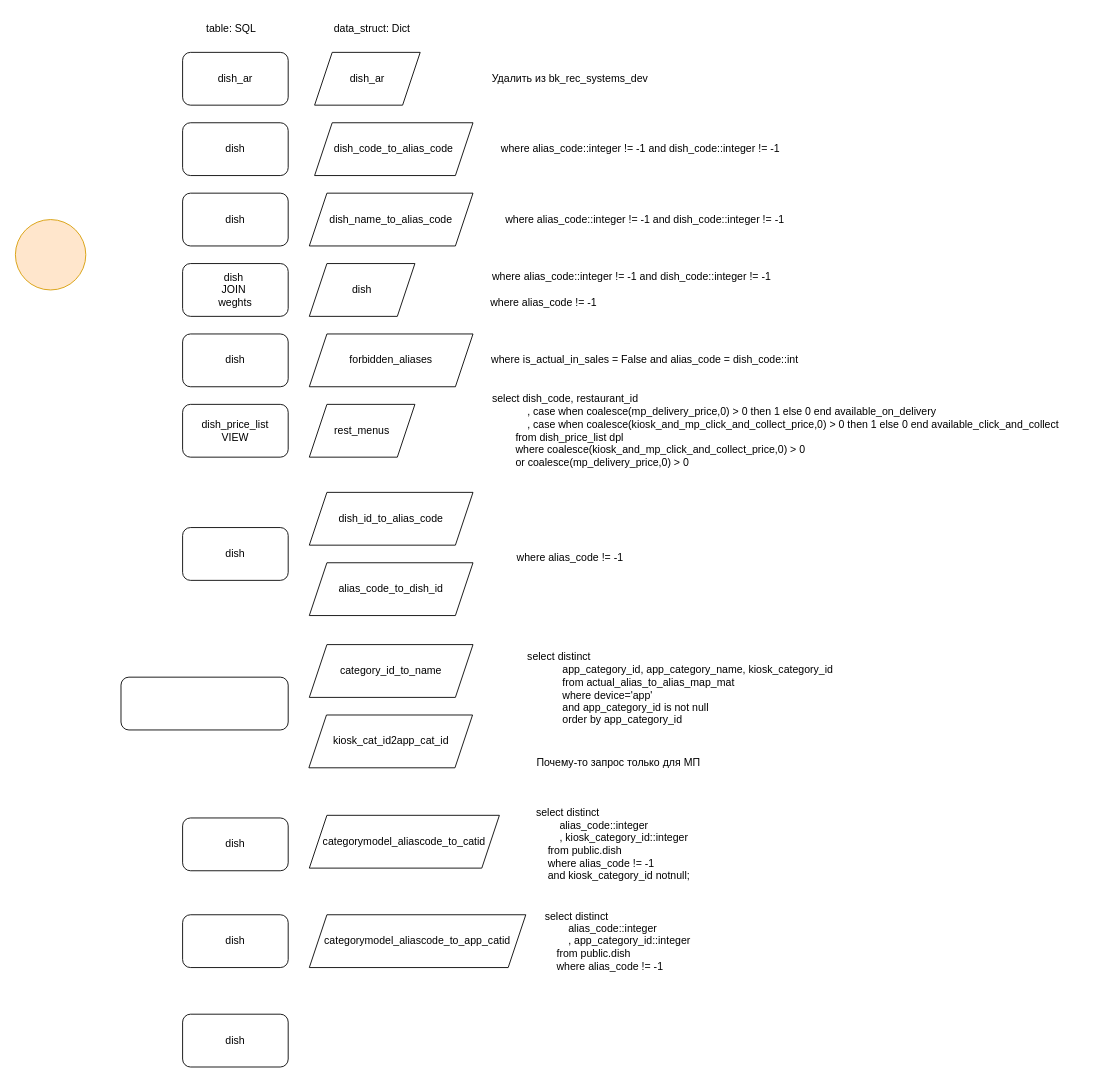
This 1096x1082 diagram has some shape labels left out. The centre of each missing label's shape, as x and y in pixels:
actual_alias_to_alias_map_mat MV: point 204,703
Data loader: point 50,254
